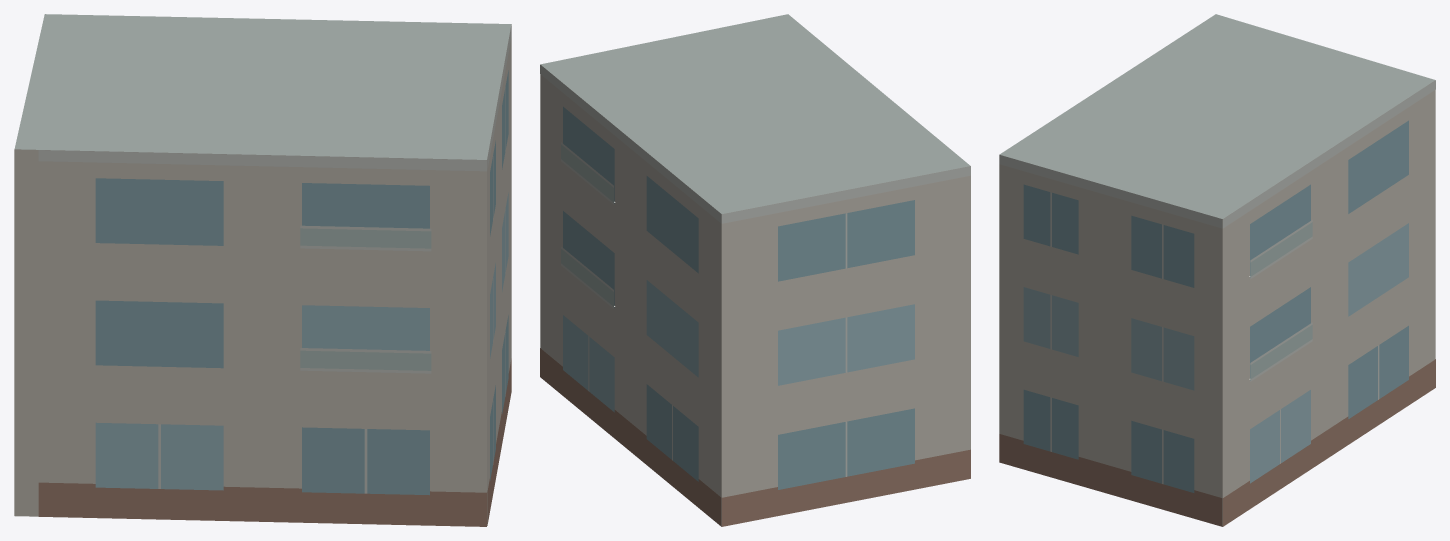
The model's file is survey-upis-32476303.glb.
3 views of the same model, side by side, from view 1: azimuth 30°, elevation 25°; view 2: azimuth 150°, elevation 25°; view 3: azimuth 270°, elevation 25° (orthographic). The views are drawn at different scales.
Parts seen in each view (by area): view 1: survey-upis-32476303.tmp; view 2: survey-upis-32476303.tmp; view 3: survey-upis-32476303.tmp.
Part boxes in pixels (x1,y1,x2,y2): survey-upis-32476303.tmp: [14, 14, 511, 526]; survey-upis-32476303.tmp: [540, 14, 970, 526]; survey-upis-32476303.tmp: [999, 14, 1435, 526].
Size of the model in its own units: 11.3 by 7.9 by 10.16.
